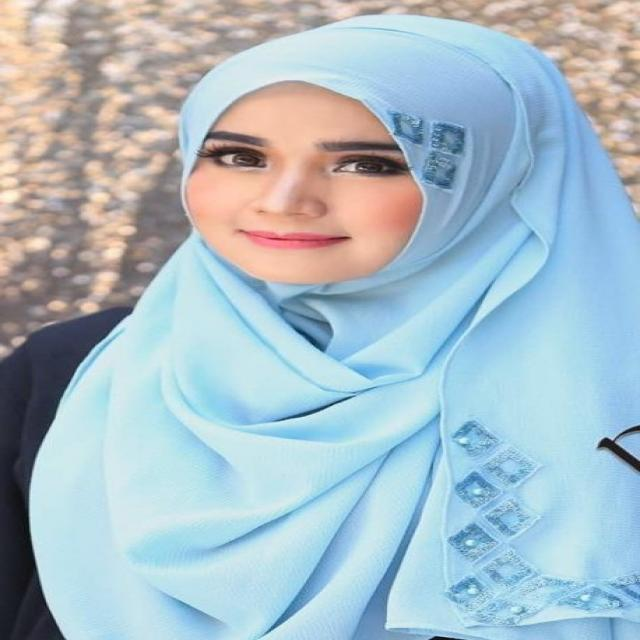head: (172, 13, 538, 298)
